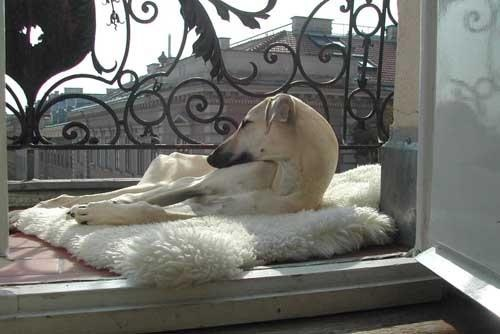dog: (34, 92, 346, 232)
